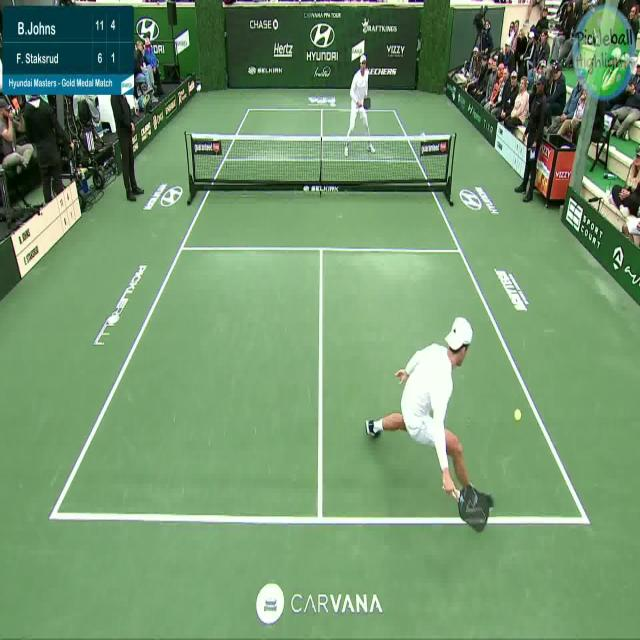Court: (50, 105, 586, 519)
ball: (510, 403, 524, 427)
